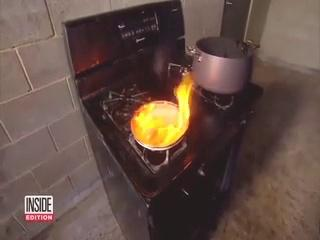Fire: (130, 80, 197, 152)
